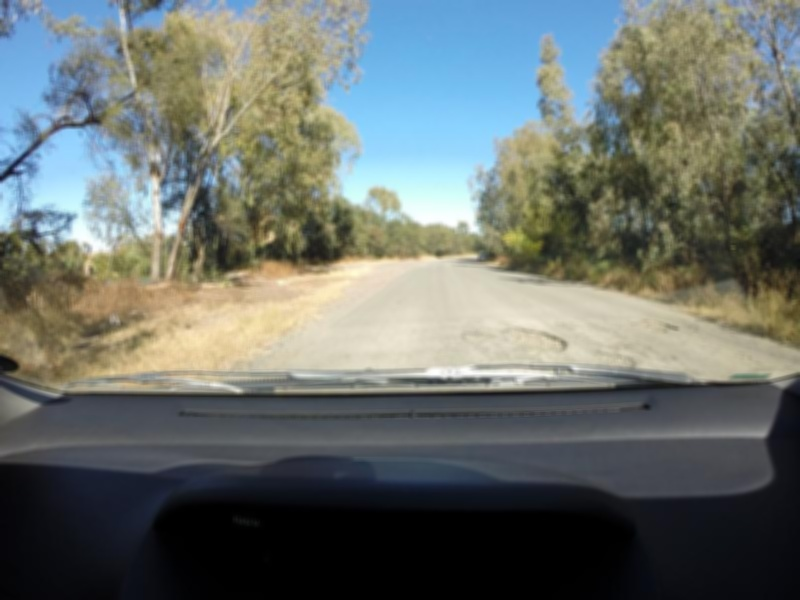pothole: (503, 320, 566, 347), (640, 316, 687, 341), (598, 344, 633, 366), (461, 326, 497, 345)
